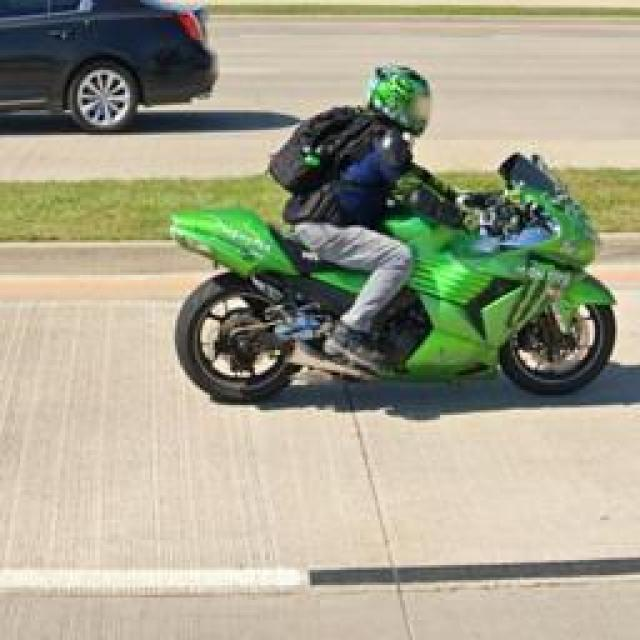motorbike: (170, 66, 618, 404)
